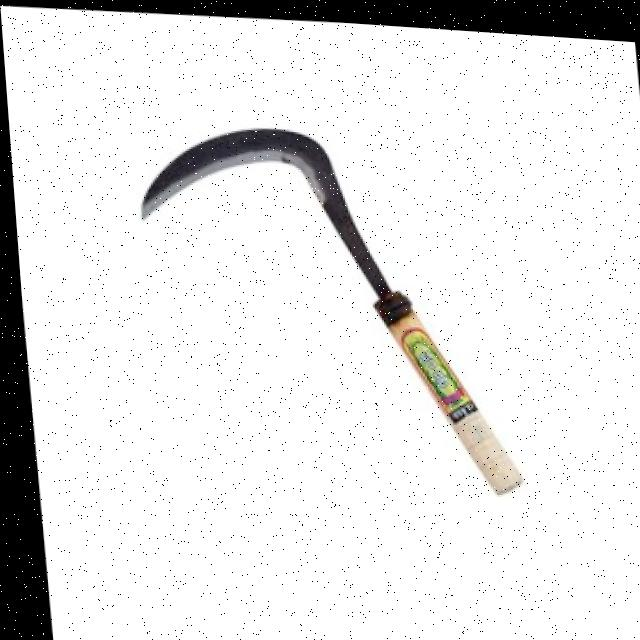sickle: (96, 78, 549, 513)
